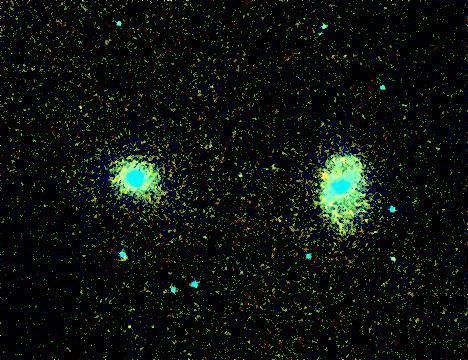star: (309, 157, 339, 187)
